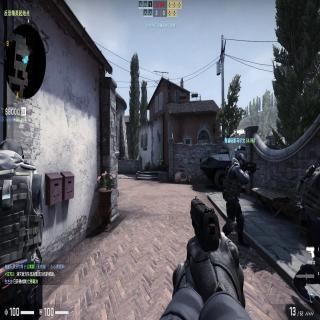CT-Body: (220, 150, 260, 244)
CT-Head: (0, 138, 24, 157), (236, 151, 246, 166)
